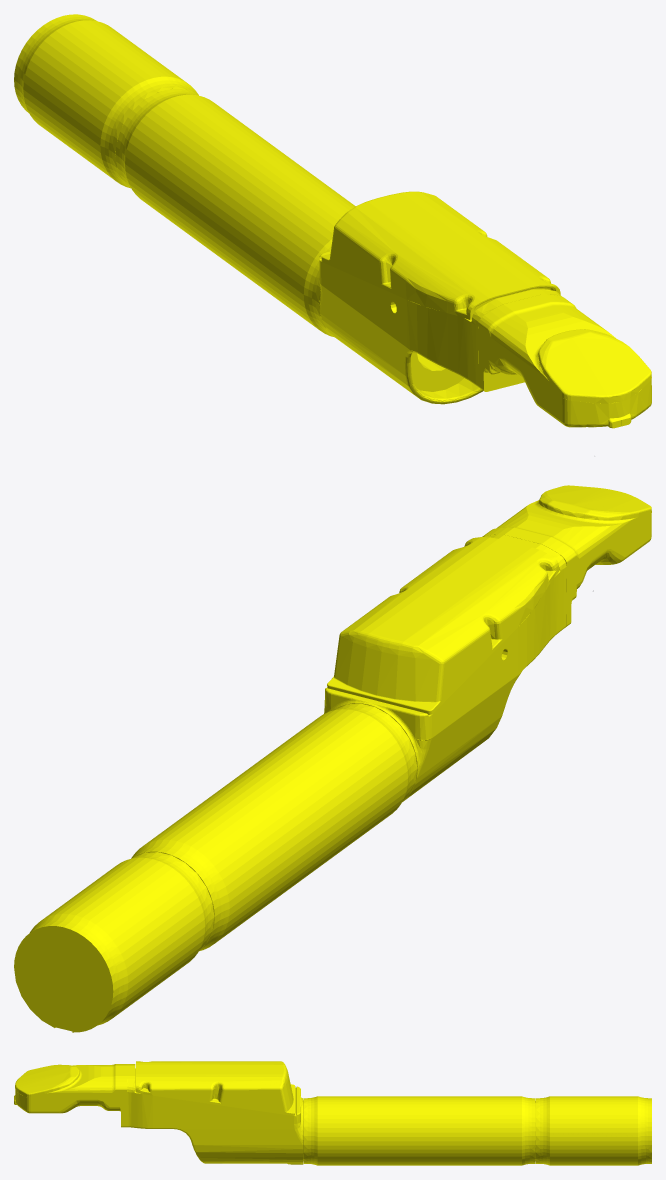
3 renders of one model, top to bottom at view 1: azimuth 30°, elevation 25°; view 2: azimuth 150°, elevation 25°; view 3: azimuth 270°, elevation 25°, orthographic. The views are drawn at different scales.
Visible parts, largest first — view 1: node; view 2: node; view 3: node.
Boxes of the visible parts, <box> form: node: <box>14,14,651,456</box>; node: <box>14,485,651,1032</box>; node: <box>14,1061,651,1165</box>.
Bounding box in the file's own units: 124 × 176 × 1098.
